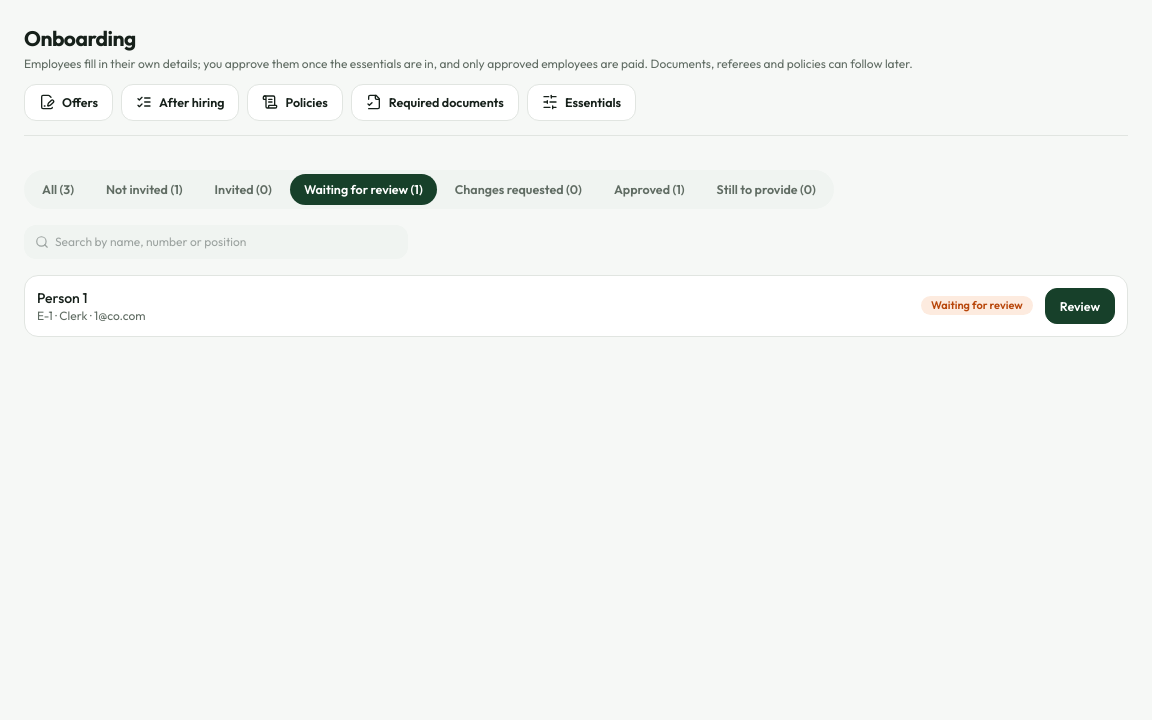
Test: OnboardingReview › shows essentials and what can follow later apart, and approves with follow-ups outstanding
The image size is (1152, 720).
Click the button "Review": click(1080, 306) 1045,288 -> 1115,324
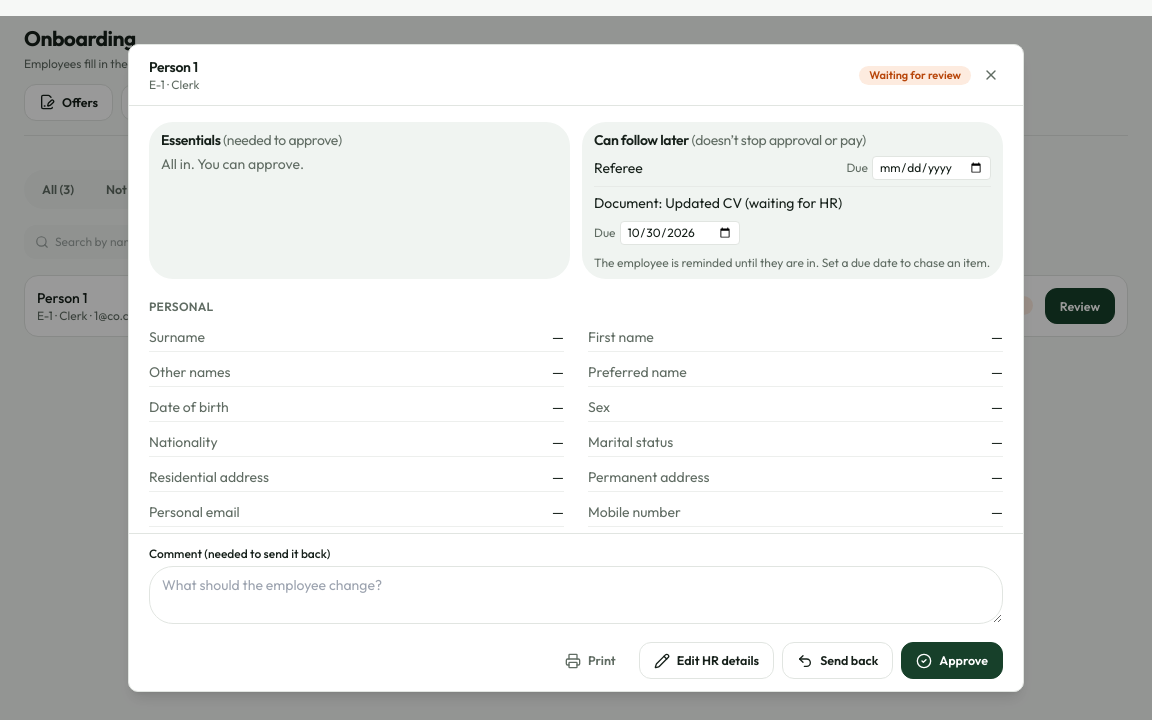
Expected: the text "All in. You can approve." is shown, 161,155 -> 304,173
Expected: the text "Referee" is shown, 594,158 -> 643,178
Expected: the text "Document: Updated CV (waiting for HR)" is shown, 594,193 -> 842,213
